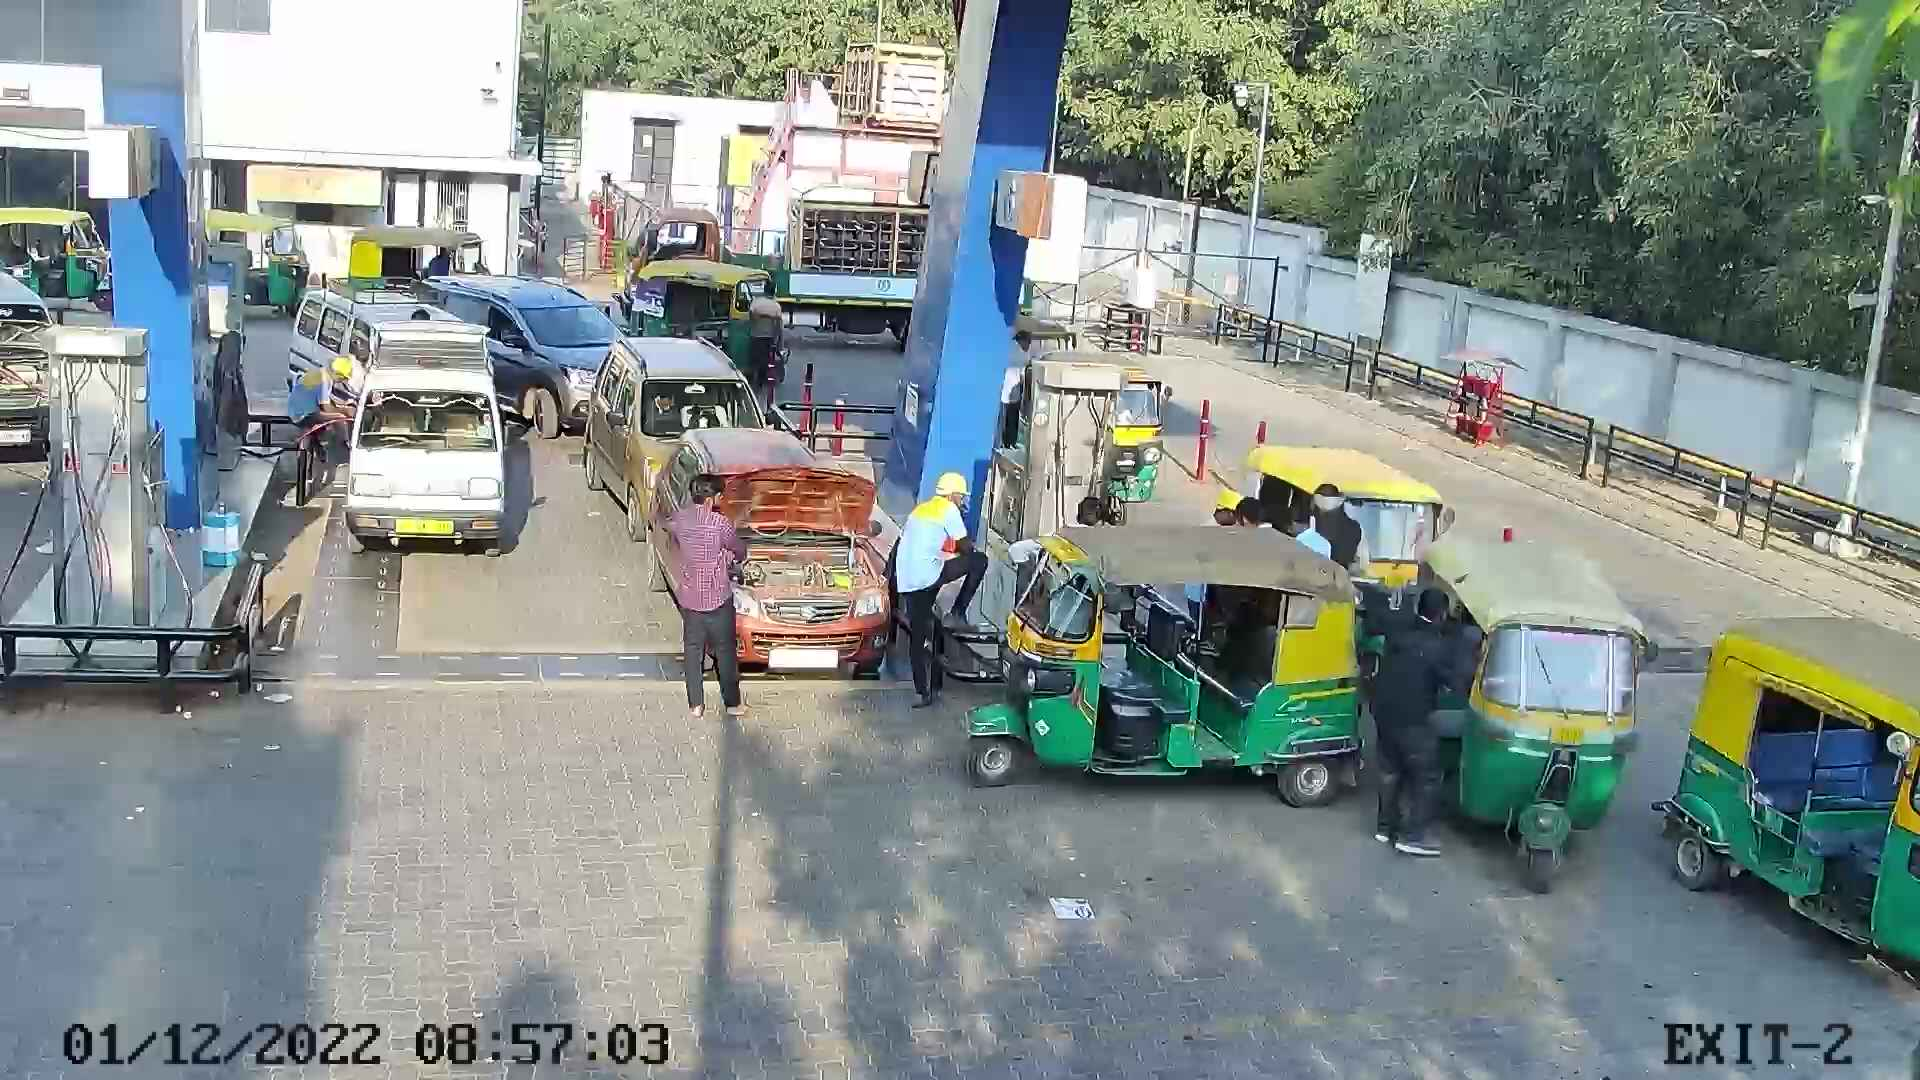Auto: (953, 514, 1378, 822), (1648, 607, 1915, 1005), (1400, 530, 1654, 902), (1226, 431, 1462, 694), (1005, 334, 1180, 531), (615, 237, 800, 396), (616, 241, 786, 407), (193, 200, 315, 324), (0, 198, 125, 318), (338, 210, 495, 301), (1000, 307, 1088, 365)
Car: (636, 413, 902, 688), (572, 320, 786, 553), (334, 306, 516, 568), (400, 262, 636, 438), (277, 266, 471, 454), (0, 260, 76, 464)
HMV: (599, 171, 934, 353)
Others: (885, 465, 992, 713), (1178, 483, 1247, 636), (282, 349, 357, 487)
